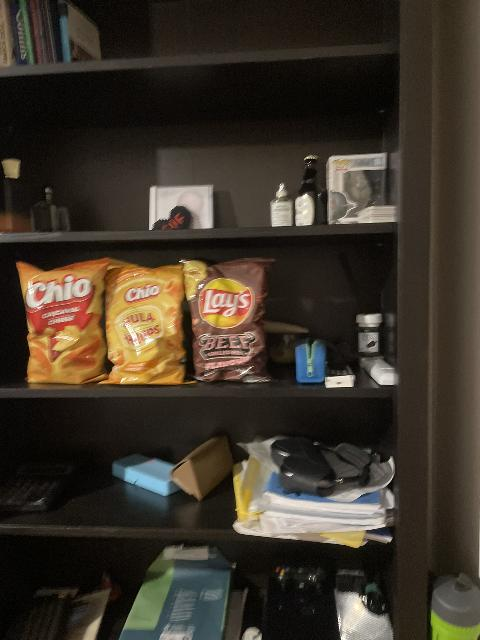Chio Cascaval 125g: (15, 258, 115, 387)
Chio Hula Hoops Cheese 70g: (100, 259, 193, 386)
Lays Beef Grilled Ribs 125g: (186, 257, 275, 383)
